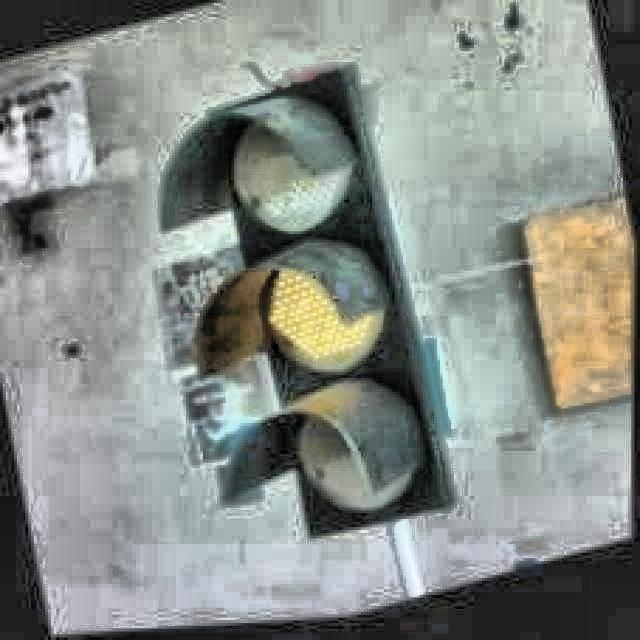yellow: (210, 77, 442, 530)
